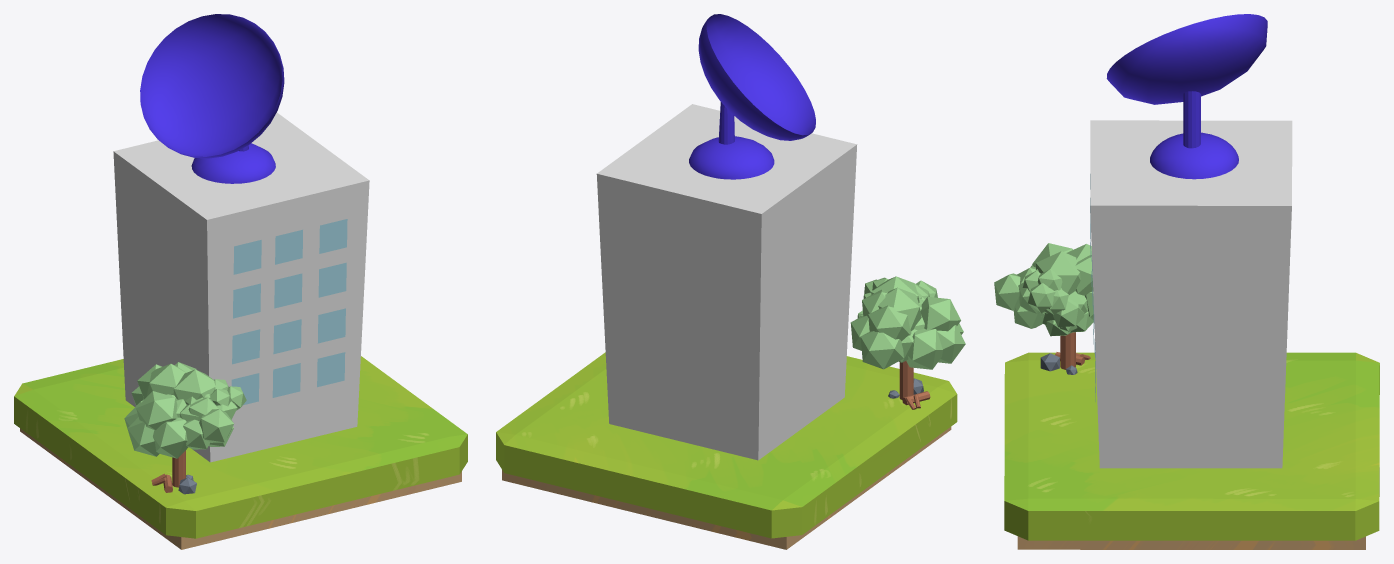
File: solar.fbx
3 renders of one model, left to right at view 1: azimuth 30°, elevation 25°; view 2: azimuth 150°, elevation 25°; view 3: azimuth 270°, elevation 25°, orthographic. The views are drawn at different scales.
Visible parts, largest first — view 1: Cube, Cube.002, Sphere, Plane.003, Cylinder.003, Cube.001, Sphere.001; view 2: Cube, Cube.002, Cylinder.003, Sphere, Cube.001, Sphere.001; view 3: Cube, Cube.002, Sphere, Cylinder.003, Cube.001, Sphere.001, Cylinder.
Part boxes in pixels (x1,y1,x2,y2): Cube: (113, 112, 369, 462); Cube.002: (14, 356, 467, 538); Sphere: (140, 14, 284, 158); Plane.003: (231, 219, 347, 405); Cylinder.003: (124, 362, 246, 494); Cube.001: (20, 428, 461, 549); Sphere.001: (191, 143, 275, 183); Cube: (596, 104, 857, 460); Cube.002: (496, 352, 957, 538); Cylinder.003: (850, 276, 965, 409); Sphere: (698, 14, 815, 140); Cube.001: (502, 427, 951, 549); Sphere.001: (689, 136, 774, 179); Cube: (1090, 120, 1292, 468); Cube.002: (1004, 352, 1379, 540); Sphere: (1106, 14, 1267, 104); Cylinder.003: (994, 243, 1093, 374); Cube.001: (1017, 536, 1365, 549); Sphere.001: (1150, 132, 1238, 179); Cylinder: (1183, 91, 1200, 148).
Bounding box in the file's own units: 114 × 147 × 111.
Materials: 15 (2 with a texture image).
